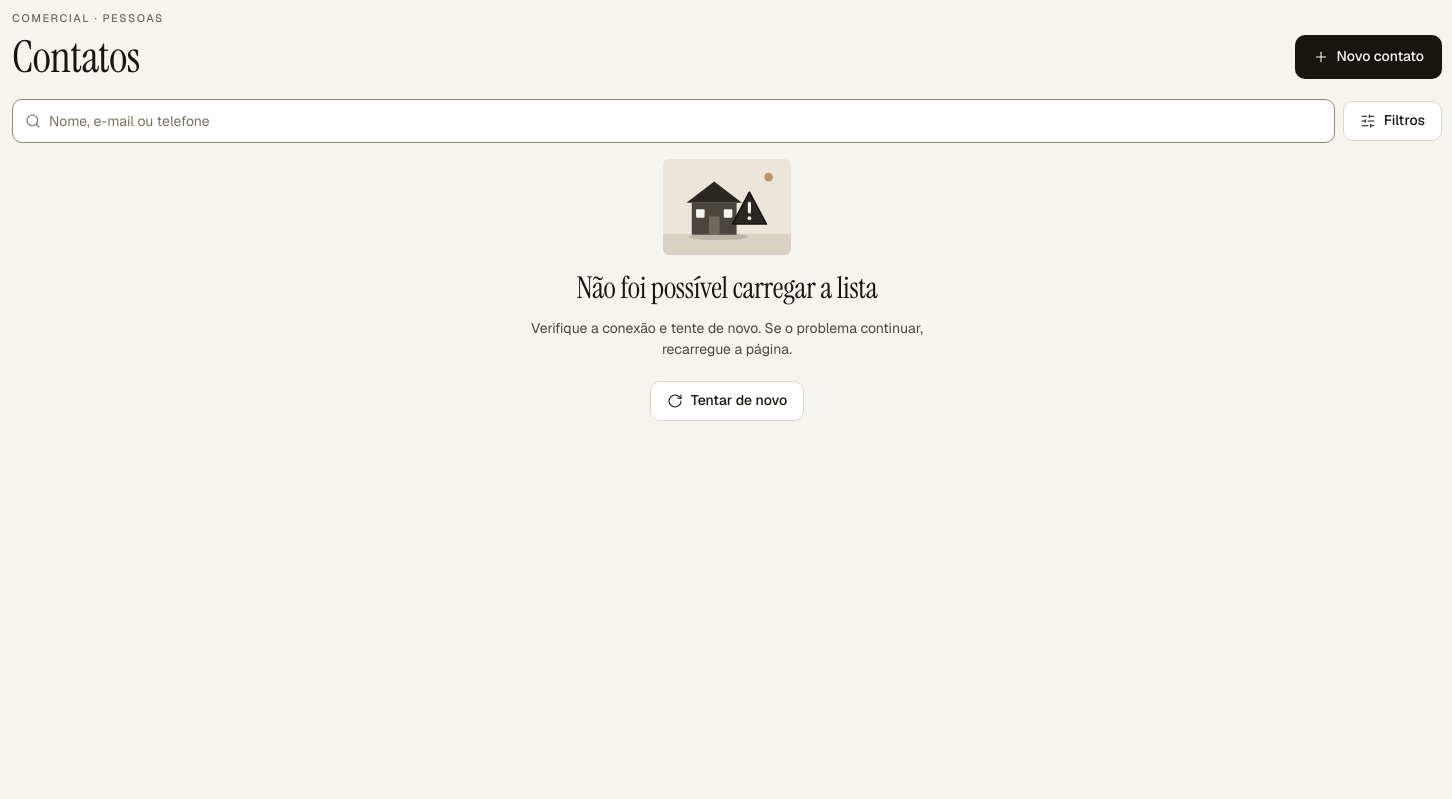
Scenario: TelaContatos (RF-74) › mostra erro com 'Tentar de novo' e se recupera
The image size is (1452, 799).
Click the button "Tentar de novo" at (727, 401), box [650,381,804,421]
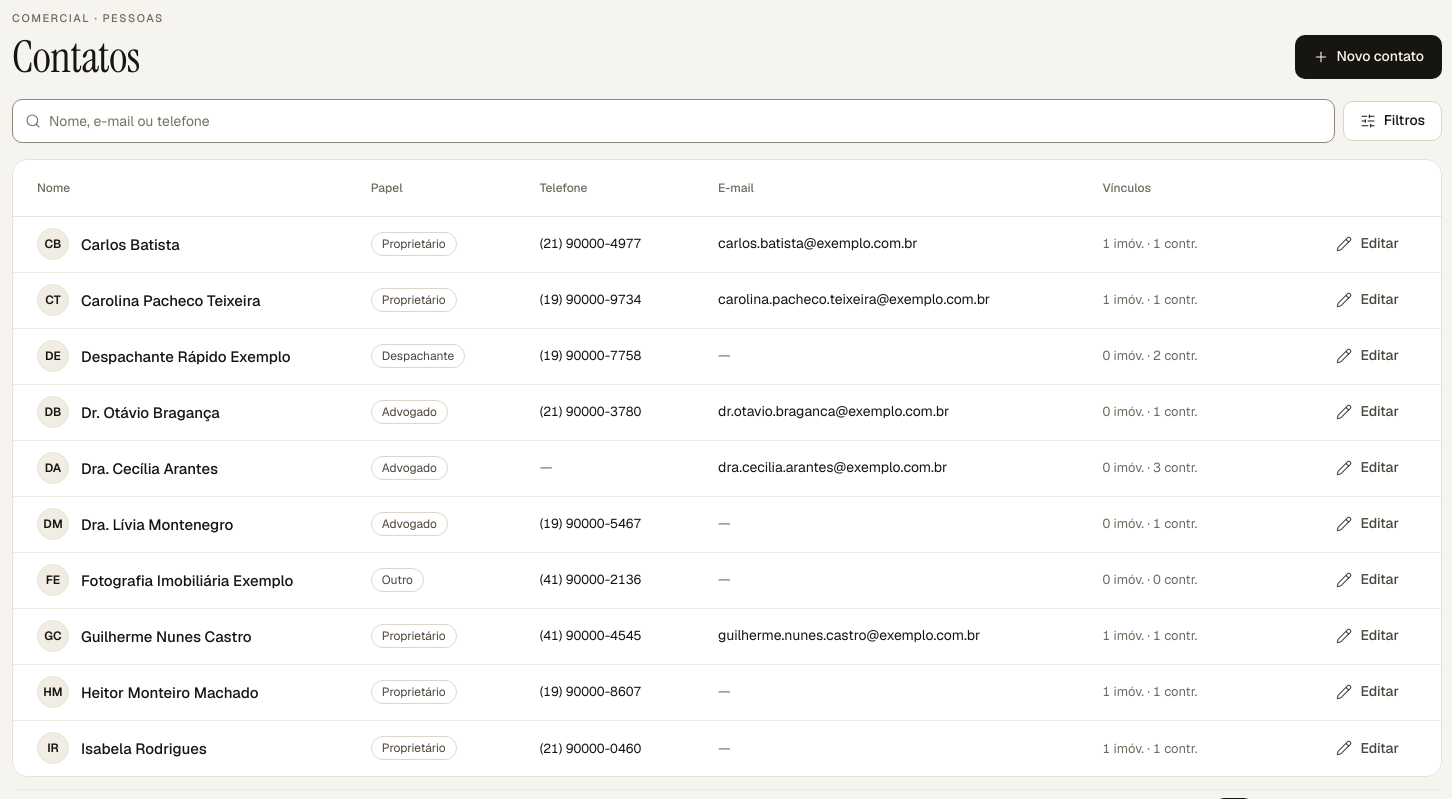
Result: the element named "Contatos" is shown
